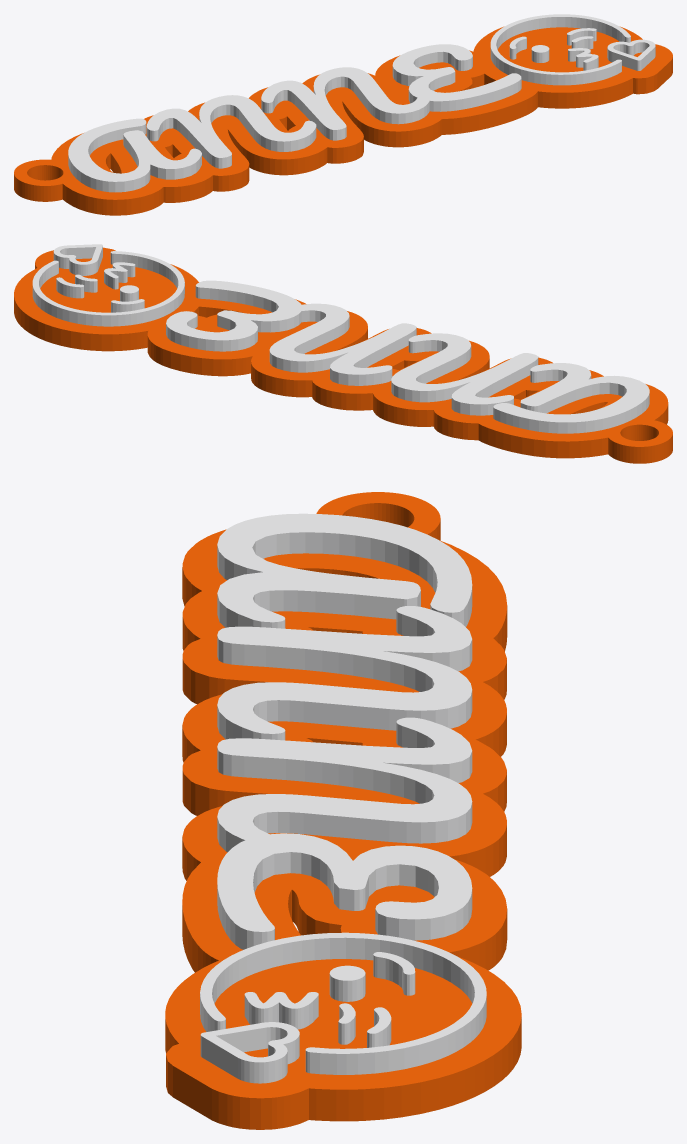
Rendered from anne-keychain.glb.
3 views of the same model, one above another, from view 1: azimuth 30°, elevation 25°; view 2: azimuth 150°, elevation 25°; view 3: azimuth 270°, elevation 25° (orthographic). The views are drawn at different scales.
Parts seen in each view (by area): view 1: Base, Text; view 2: Text, Base; view 3: Text, Base.
Boxes of the visible parts, x1=… form: Base: x1=14, y1=26, x2=672, y2=215; Text: x1=68, y1=14, x2=655, y2=192; Text: x1=32, y1=244, x2=649, y2=433; Base: x1=14, y1=247, x2=672, y2=463; Text: x1=200, y1=513, x2=486, y2=1083; Base: x1=165, y1=492, x2=521, y2=1129.
Bounding box in the file's own units: 0.0985 × 0.004 × 0.0245.
